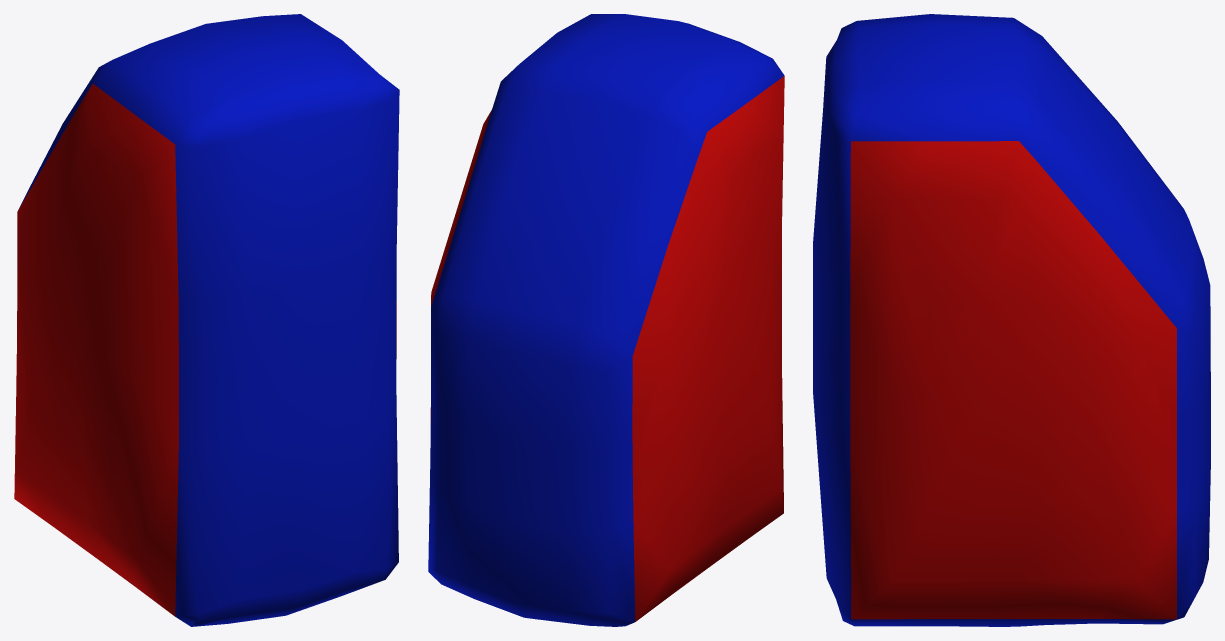
Rendered from Stand-Up-Wing.glb.
The picture shows the model from 3 angles, left to right: view 1: azimuth 30°, elevation 25°; view 2: azimuth 150°, elevation 25°; view 3: azimuth 270°, elevation 25°; orthographic projection. The views are drawn at different scales.
Parts seen in each view (by area): view 1: Stand-Up-Wing; view 2: Stand-Up-Wing; view 3: Stand-Up-Wing.
Part boxes in pixels (x1,y1,x2,y2): Stand-Up-Wing: [14, 14, 399, 626]; Stand-Up-Wing: [428, 14, 784, 626]; Stand-Up-Wing: [813, 14, 1210, 626].
Size of the model in its own units: 1.16 by 2.13 by 1.36.
